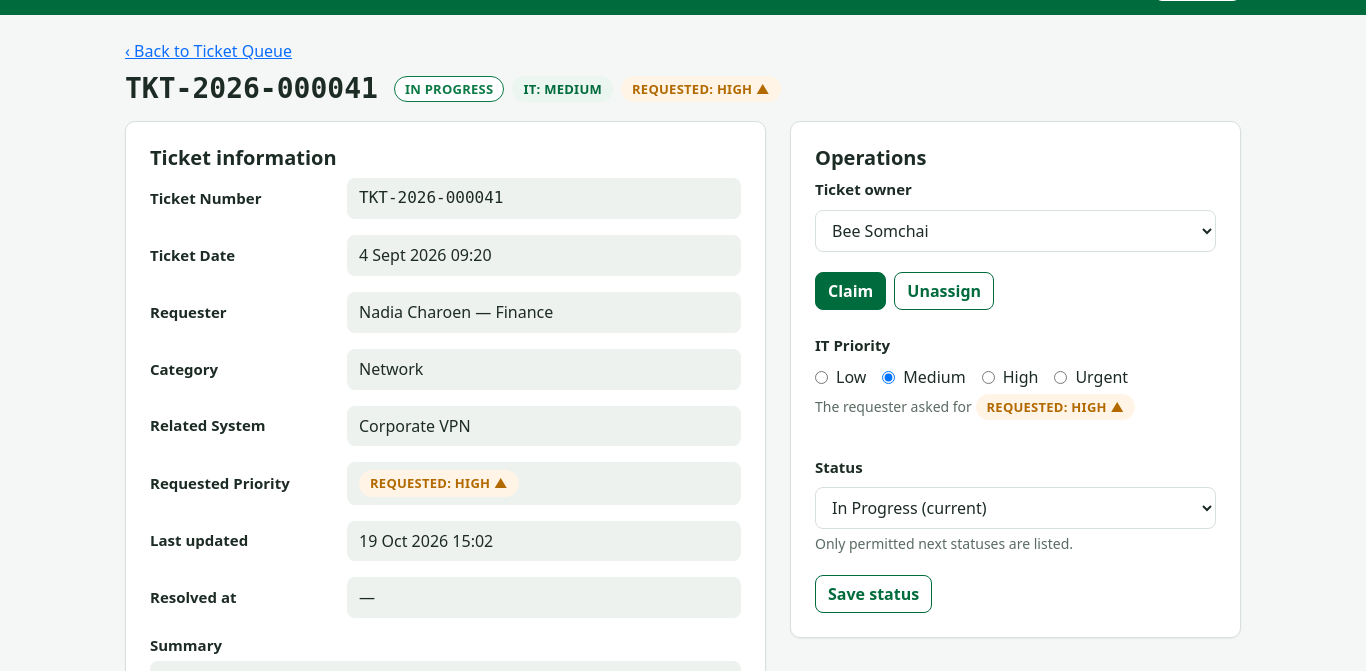
Test: UI-23 the resolution blockers callout (AC-40, ui-spec §2.7) › renders the same callout from a 409 RESOLUTION_BLOCKED at save time, and resets the select
The width and height of the screenshot is (1366, 671).
Select "Resolved" in the dropdown labelled "Status": (1016, 508) 815,487 -> 1216,529
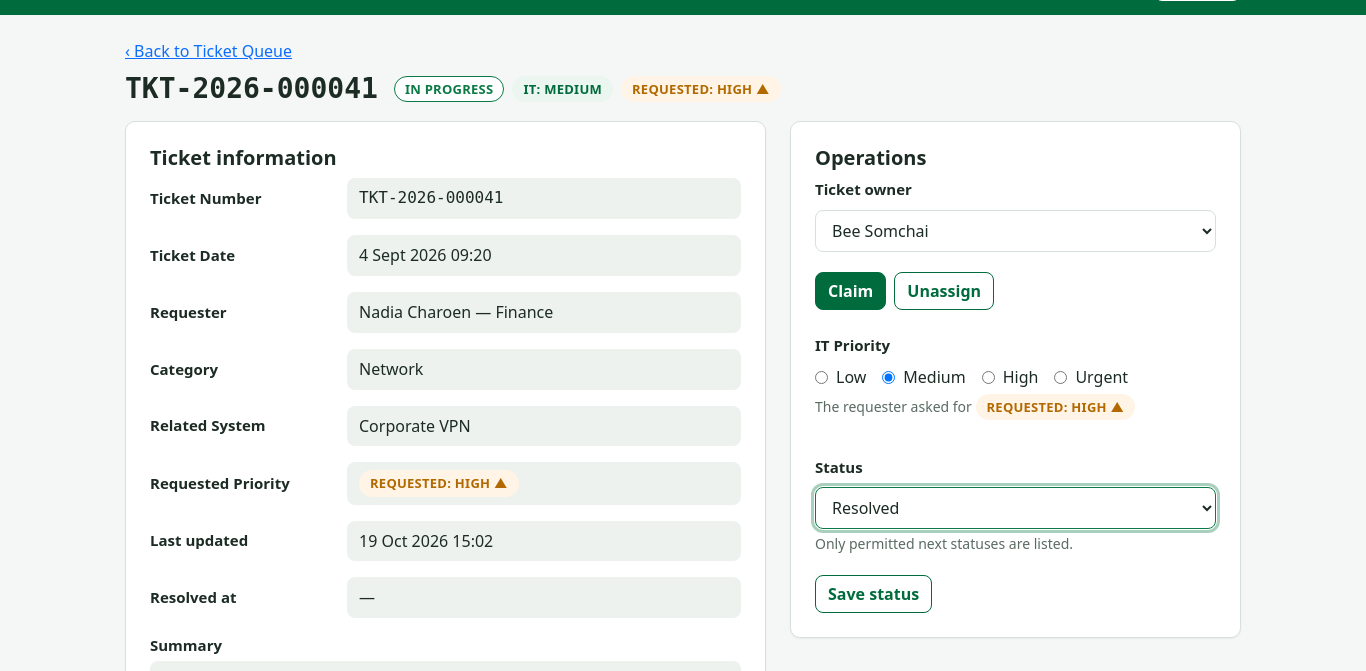
Click the button "Save status": click(874, 594) 815,575 -> 932,613
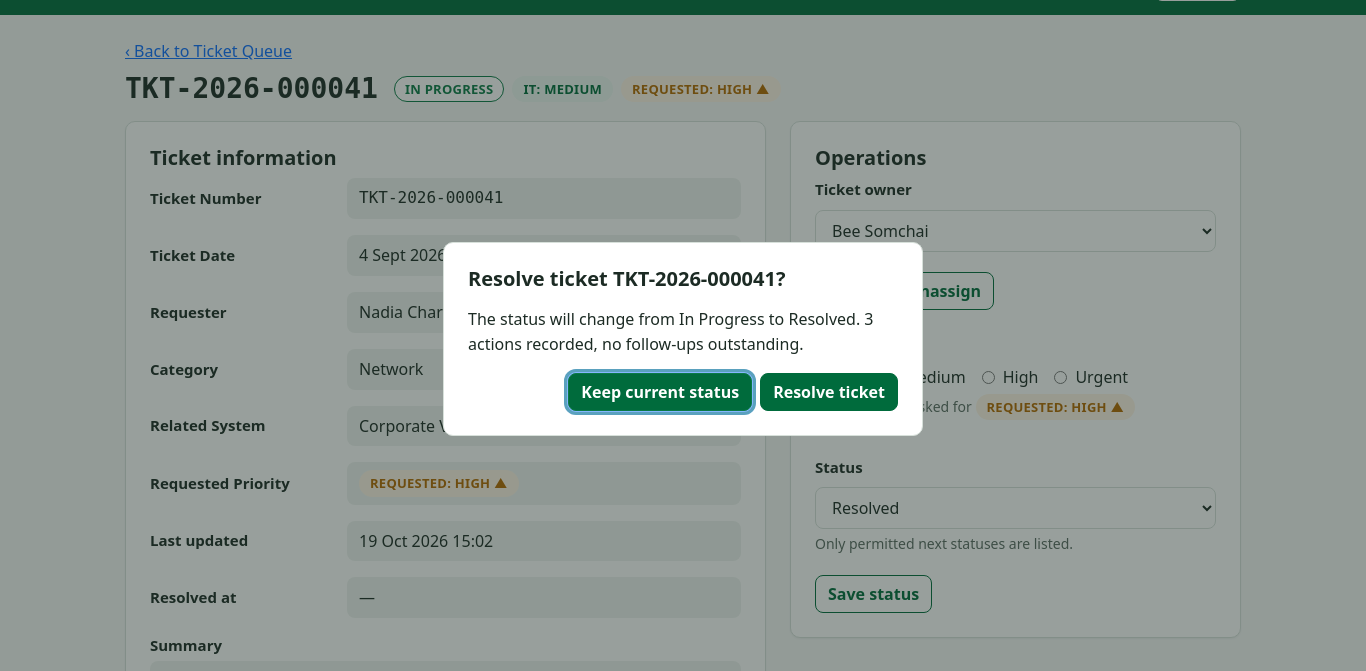
Click the button "Resolve ticket": click(829, 392) 760,373 -> 898,411
(page scrolled)
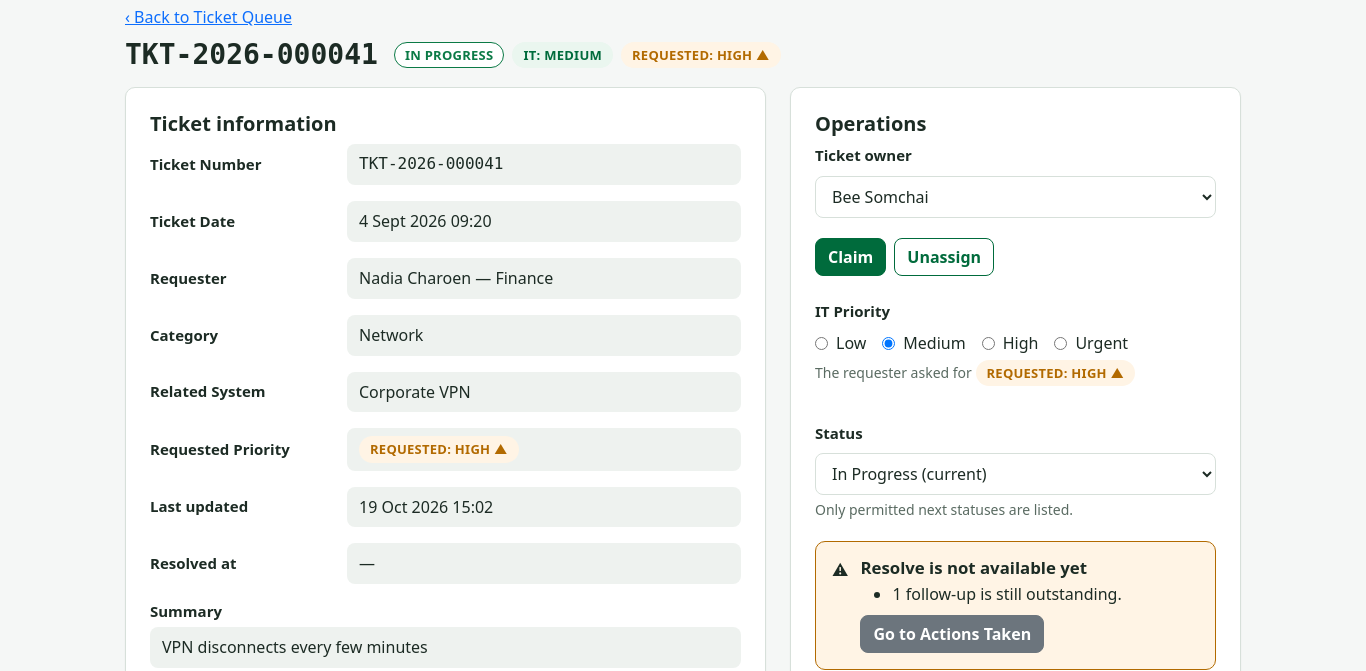
Check: the heading "Resolve is not available yet" is shown, box 860,558 -> 1122,578
Check: the list item "1 follow-up is still outstanding." is shown, box 892,582 -> 1122,607
